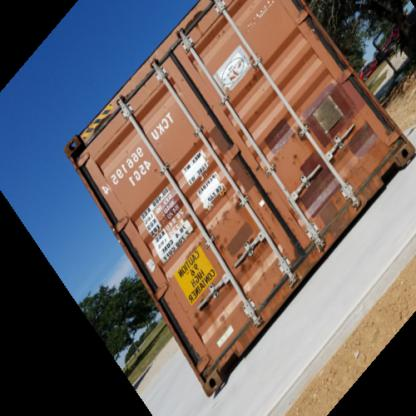Damage: (186, 296, 238, 330), (367, 130, 411, 168), (281, 125, 310, 170), (232, 247, 268, 276)
